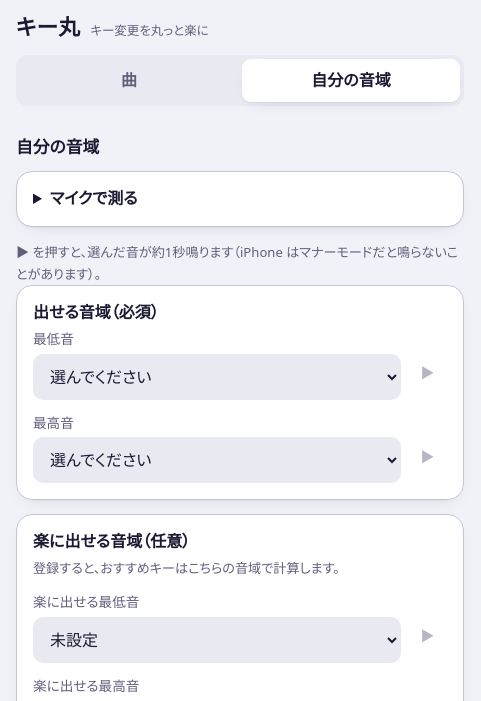
it: マイクで測る（許可・やり直し） › マイクの使用を断られたら、そう伝える
The width and height of the screenshot is (481, 701).
Click the heading "マイクで測る" at [94, 198], box [50,187,138,209]
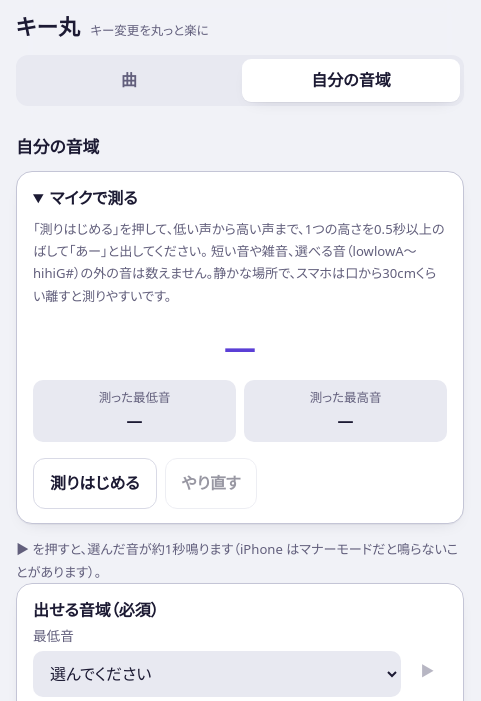
Click the button "測りはじめる" at [95, 483], box [33,458,157,509]
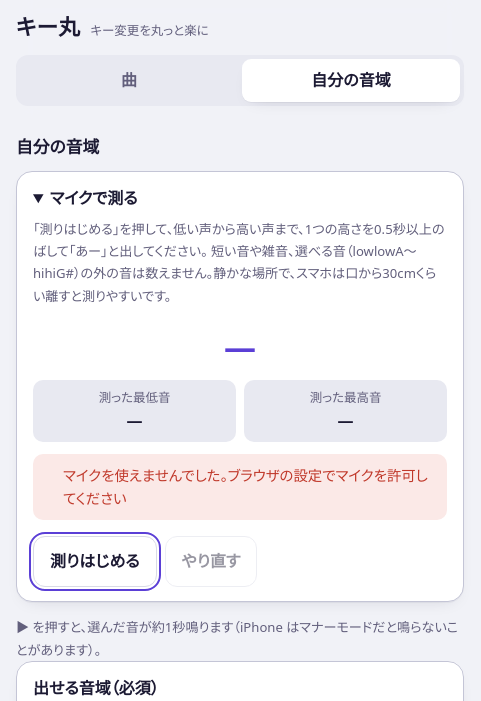
Expected: the button "測りはじめる" is shown, [33,536,157,587]
Expected: the message shows "マイクを許可してください", [63,466,428,508]
